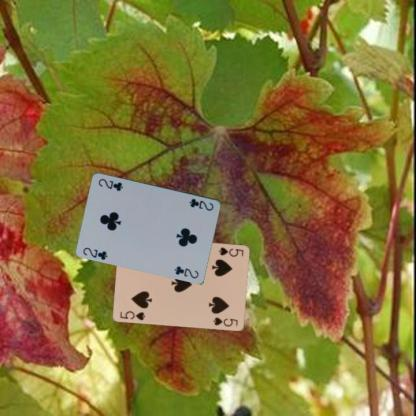2c: (81, 244, 109, 262), (187, 196, 215, 212)
5s: (216, 244, 244, 258), (118, 309, 147, 321)
